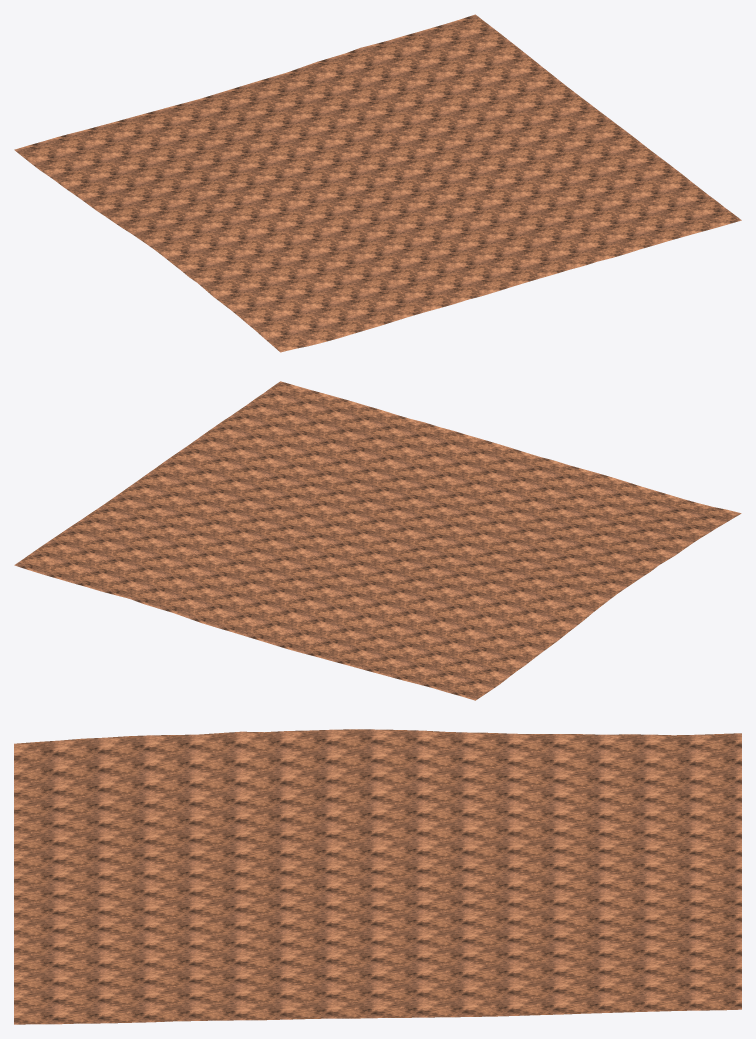
File: terrain_10_20.dae
3 renders of one model, top to bottom at view 1: azimuth 30°, elevation 25°; view 2: azimuth 150°, elevation 25°; view 3: azimuth 270°, elevation 25°, orthographic. The views are drawn at different scales.
Parts seen in each view (by area): view 1: terrain_10_20-node; view 2: terrain_10_20-node; view 3: terrain_10_20-node.
Part boxes in pixels (x1=…): terrain_10_20-node: x1=14, y1=14, x2=741, y2=352; terrain_10_20-node: x1=14, y1=381, x2=741, y2=700; terrain_10_20-node: x1=14, y1=729, x2=741, y2=1024.
Bounding box in the file's own units: 128 × 128 × 8.24.
1 material, 1 textured.
